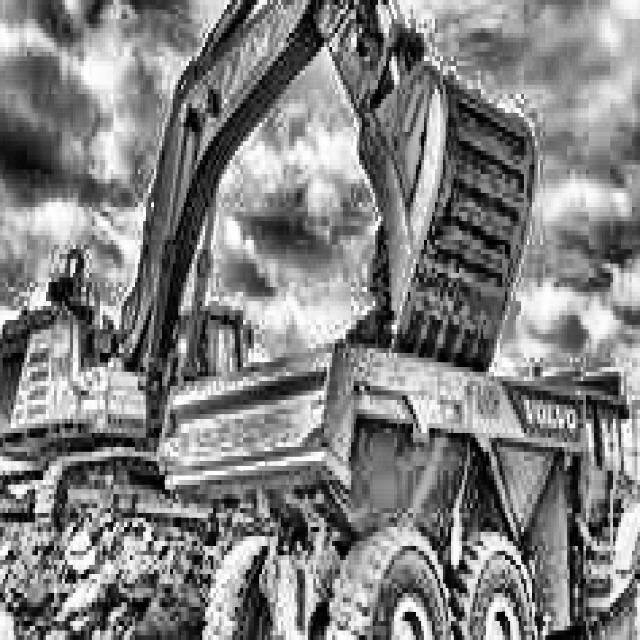dump_truck: (124, 282, 640, 640)
excavator: (0, 0, 543, 522)
